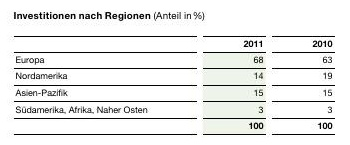table: (0, 0, 350, 145)
